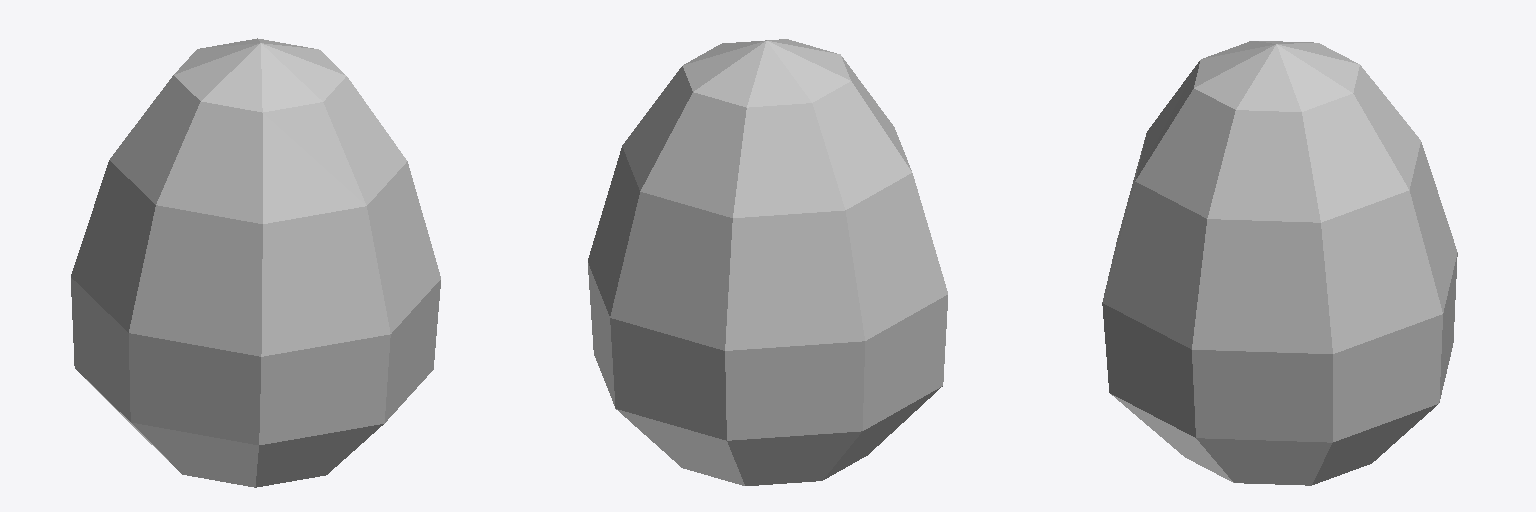
File: huevo2.obj
The picture shows the model from 3 angles: view 1: azimuth 30°, elevation 25°; view 2: azimuth 150°, elevation 25°; view 3: azimuth 270°, elevation 25°; orthographic projection.
Parts seen in each view (by area): view 1: Object_0.010; view 2: Object_0.010; view 3: Object_0.010.
Part boxes in pixels (bbox=[...]): Object_0.010: bbox=[71, 38, 440, 487]; Object_0.010: bbox=[588, 39, 947, 485]; Object_0.010: bbox=[1102, 41, 1457, 485].
Bounding box in the file's own units: 0.3904 × 0.5173 × 0.3904.